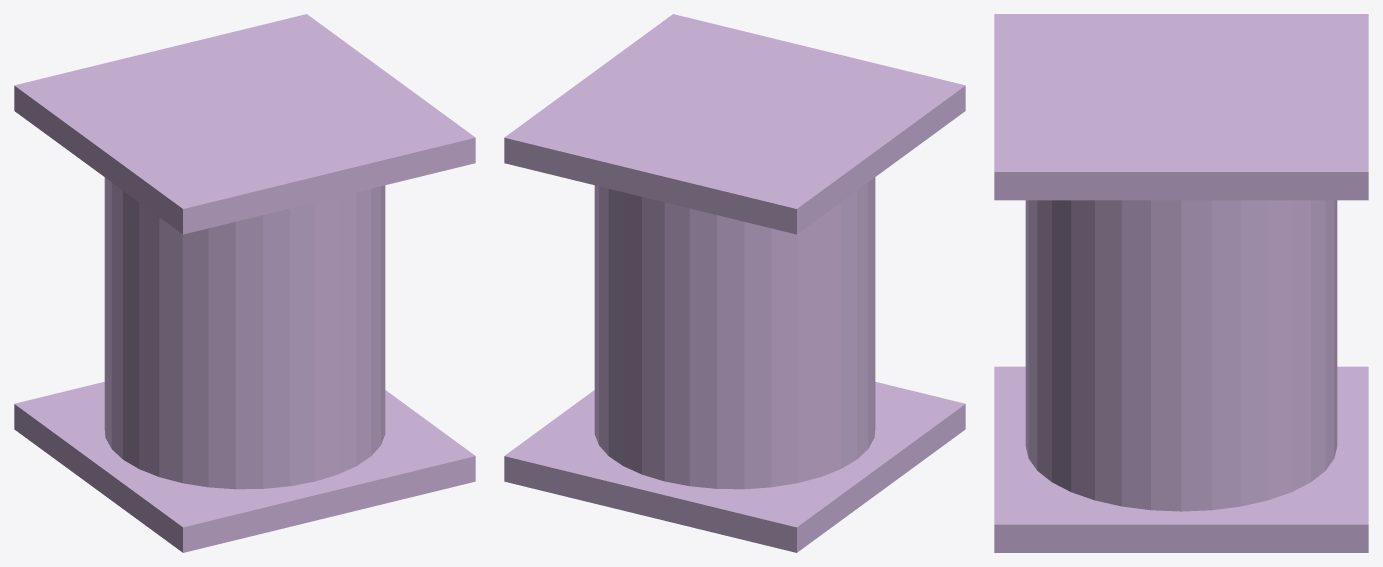
The model's file is soporte_robot.glb.
3 views of the same model, side by side, from view 1: azimuth 30°, elevation 25°; view 2: azimuth 150°, elevation 25°; view 3: azimuth 270°, elevation 25° (orthographic). The views are drawn at different scales.
Visible parts, largest first — view 1: soporte; view 2: soporte; view 3: soporte.
Boxes of the visible parts, x1,y1,x2,y2 form: soporte: [14, 14, 475, 552]; soporte: [504, 14, 965, 552]; soporte: [994, 14, 1368, 552].
Bounding box in the file's own units: 2.4 × 2.7 × 2.4.
